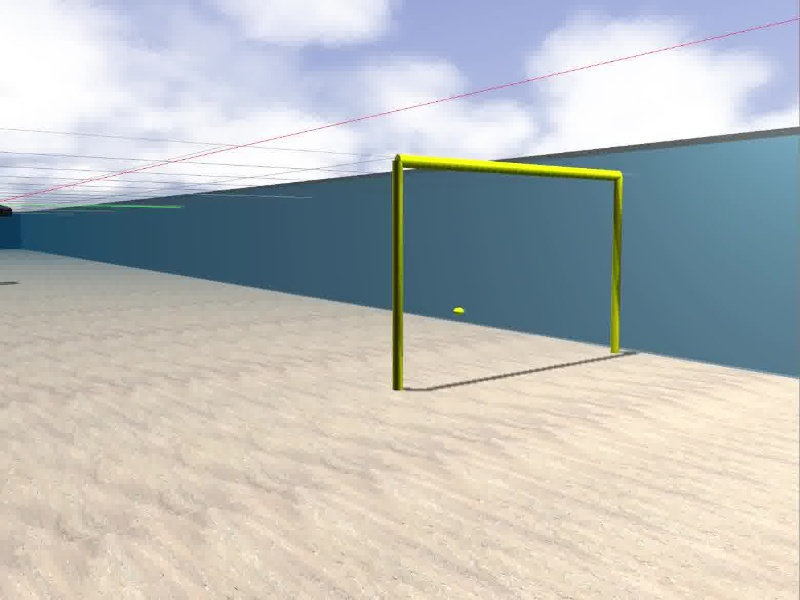gate: (392, 152, 625, 392)
